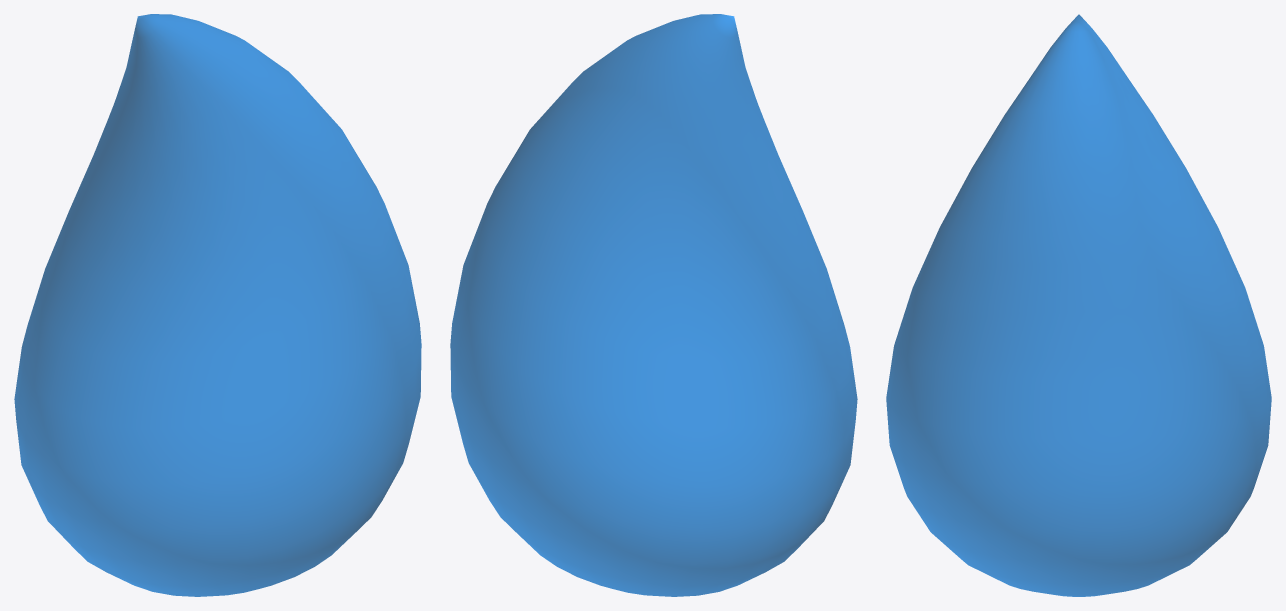
The model's file is Core Flame B.dae.
3 views of the same model, side by side, from view 1: azimuth 30°, elevation 25°; view 2: azimuth 150°, elevation 25°; view 3: azimuth 270°, elevation 25° (orthographic). The views are drawn at different scales.
Parts seen in each view (by area): view 1: Core Flame B; view 2: Core Flame B; view 3: Core Flame B.
Part boxes in pixels (x1=…): Core Flame B: x1=14, y1=14, x2=421, y2=596; Core Flame B: x1=450, y1=14, x2=857, y2=596; Core Flame B: x1=886, y1=14, x2=1271, y2=596.
Size of the model in its own units: 0.434 by 0.4447 by 0.681.
